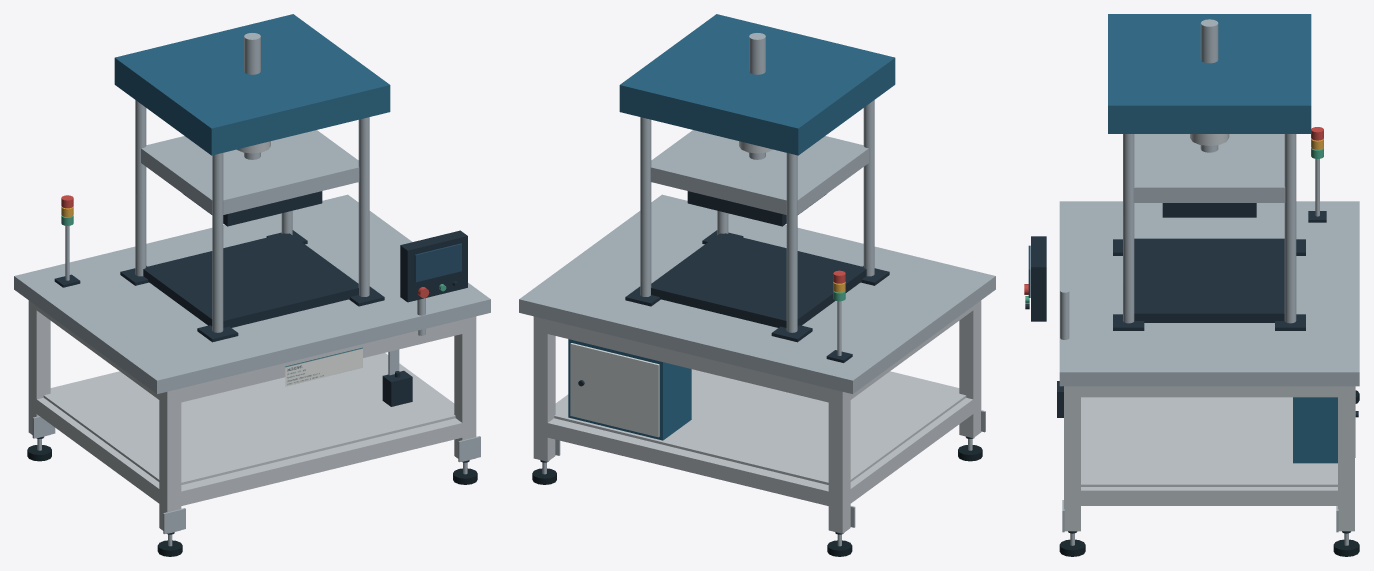
The model's file is hydraulic-deep-draw.glb.
The picture shows the model from 3 angles, left to right: view 1: azimuth 30°, elevation 25°; view 2: azimuth 150°, elevation 25°; view 3: azimuth 270°, elevation 25°; orthographic projection. The views are drawn at different scales.
Parts seen in each view (by area): view 1: ClosedMachineBed_28, LowerShelf_29, PressCrown_56, LowerDie_61, ToolPlate_58, SlottedExtrusion_22, SlottedExtrusion_23, SlottedExtrusion_8, SlottedExtrusion_24, ConsoleBack_34, SlottedExtrusion_18, SlottedExtrusion_3 (+9 smaller); view 2: ClosedMachineBed_28, PressCrown_56, LowerShelf_29, LowerDie_61, ToolPlate_58, BackDoor_31, SlottedExtrusion_20, SlottedExtrusion_21, SlottedExtrusion_3, Cabinet_30, SlottedExtrusion_13, SlottedExtrusion_24 (+7 smaller); view 3: ClosedMachineBed_28, PressCrown_56, LowerShelf_29, LowerDie_61, ToolPlate_58, SlottedExtrusion_26, SlottedExtrusion_27, Cabinet_30, SlottedExtrusion_13, SlottedExtrusion_18, GuideColumn_52, GuideColumn_54 (+4 smaller).
Part boxes in pixels (x1,y1,x2,y2): ClosedMachineBed_28: (14,194,490,393); LowerShelf_29: (43,354,455,484); PressCrown_56: (114,14,390,155); LowerDie_61: (143,233,358,327); ToolPlate_58: (141,130,359,214); SlottedExtrusion_22: (175,418,469,507); SlottedExtrusion_23: (174,318,469,402); SlottedExtrusion_8: (159,388,181,533); SlottedExtrusion_24: (33,397,159,503); ConsoleBack_34: (400,230,467,302); SlottedExtrusion_18: (454,316,476,461); SlottedExtrusion_3: (28,300,50,437); ClosedMachineBed_28: (519,194,995,393); PressCrown_56: (619,14,895,155); LowerShelf_29: (554,369,966,484); LowerDie_61: (651,233,866,327); ToolPlate_58: (650,130,868,214); BackDoor_31: (570,343,659,437); SlottedExtrusion_20: (540,418,835,507); SlottedExtrusion_21: (540,318,835,402); SlottedExtrusion_3: (828,388,850,533); Cabinet_30: (568,339,691,440); SlottedExtrusion_13: (533,316,555,461); SlottedExtrusion_24: (849,397,976,503); ClosedMachineBed_28: (1059,201,1359,386); PressCrown_56: (1108,14,1311,133); LowerShelf_29: (1081,397,1337,486); LowerDie_61: (1134,238,1284,322); ToolPlate_58: (1133,134,1285,202); SlottedExtrusion_26: (1072,487,1346,505); SlottedExtrusion_27: (1072,386,1346,397); Cabinet_30: (1293,397,1337,463); SlottedExtrusion_13: (1338,386,1354,531); SlottedExtrusion_18: (1064,386,1080,531); GuideColumn_52: (1284,134,1296,323); GuideColumn_54: (1123,134,1134,323).
Bounding box in the file's own units: 1.55 × 1.91 × 1.29.
Materials: 11 (1 with a texture image).
